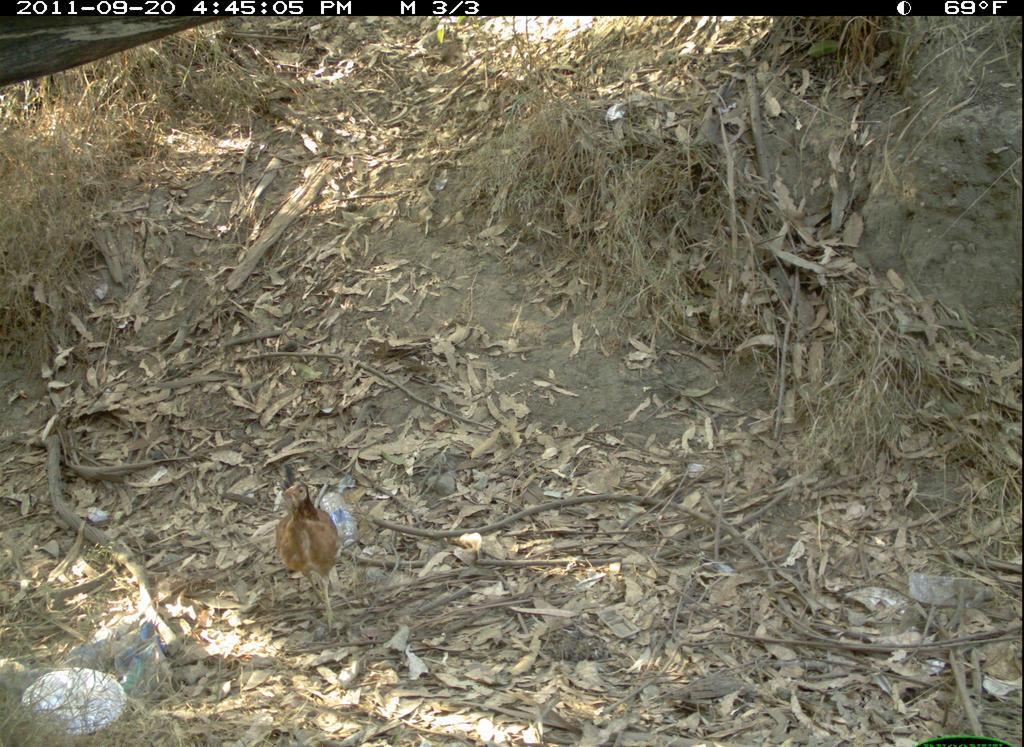bird: (258, 470, 365, 633)
